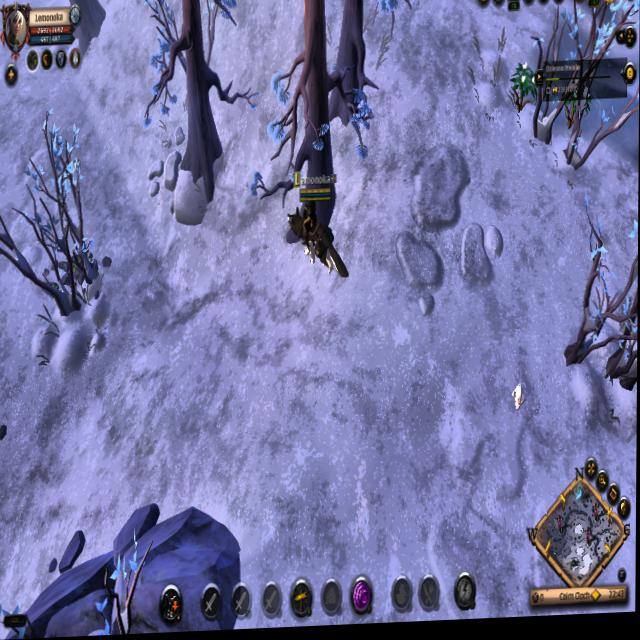fiber tier 3: (508, 65, 534, 121)
